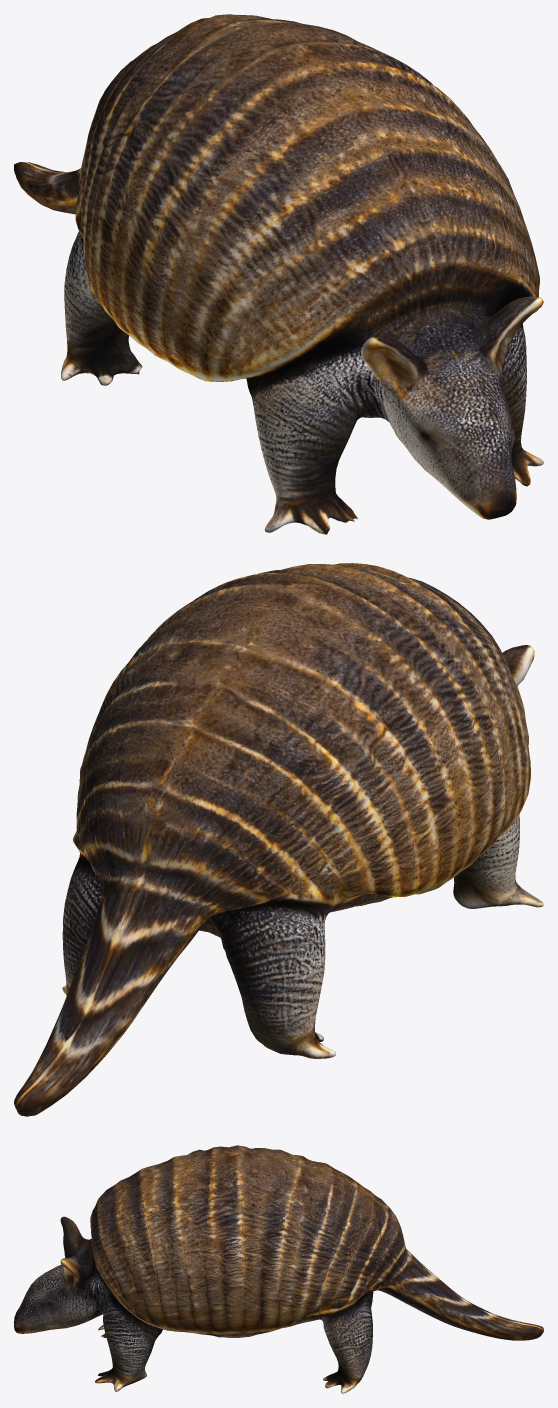
File: uploads_files_5014827_Armadillo_Quad.fbx
3 views of the same model, one above another, from view 1: azimuth 30°, elevation 25°; view 2: azimuth 150°, elevation 25°; view 3: azimuth 270°, elevation 25° (orthographic). The views are drawn at different scales.
Parts seen in each view (by area): view 1: Armadillo_Quad; view 2: Armadillo_Quad; view 3: Armadillo_Quad.
Boxes of the visible parts, x1=… form: Armadillo_Quad: x1=14, y1=14, x2=543, y2=534; Armadillo_Quad: x1=14, y1=563, x2=543, y2=1116; Armadillo_Quad: x1=14, y1=1145, x2=543, y2=1393.
Bounding box in the file's own units: 33.57 × 33.53 × 78.3.
